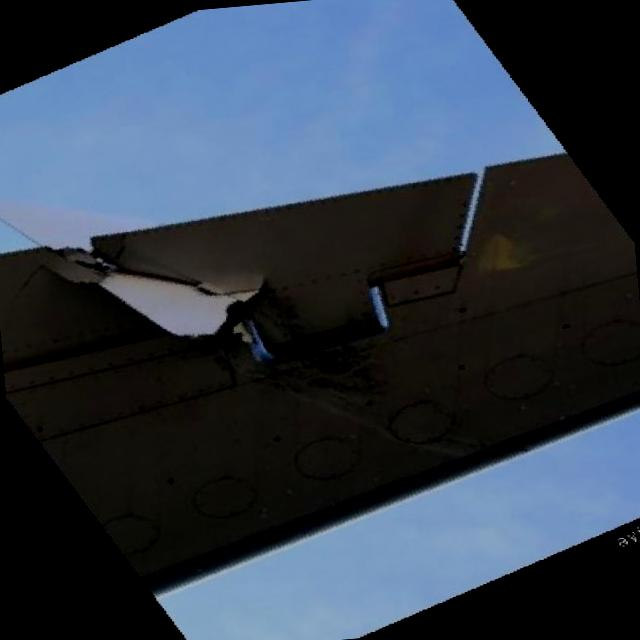crack: (5, 234, 286, 360)
